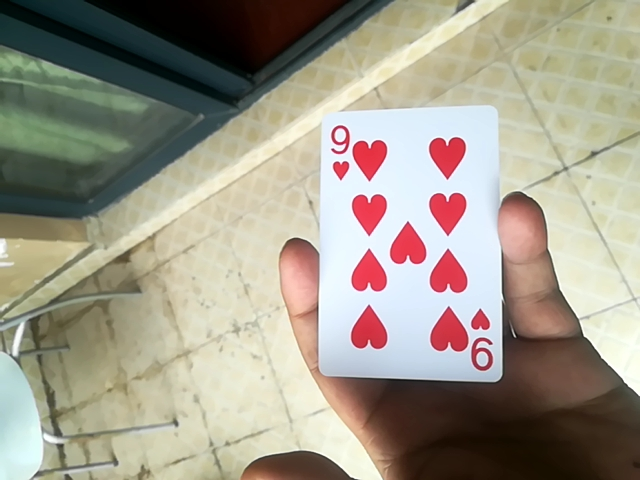hx 9: (315, 106, 502, 376)
